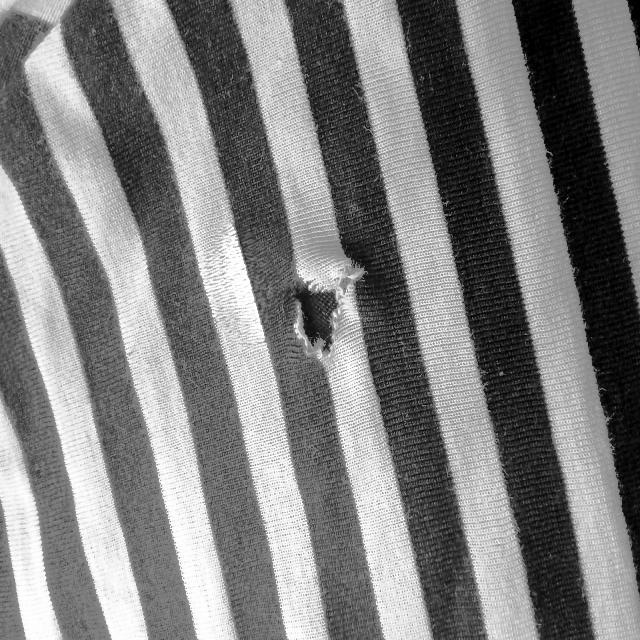Hole: (274, 252, 367, 402)
